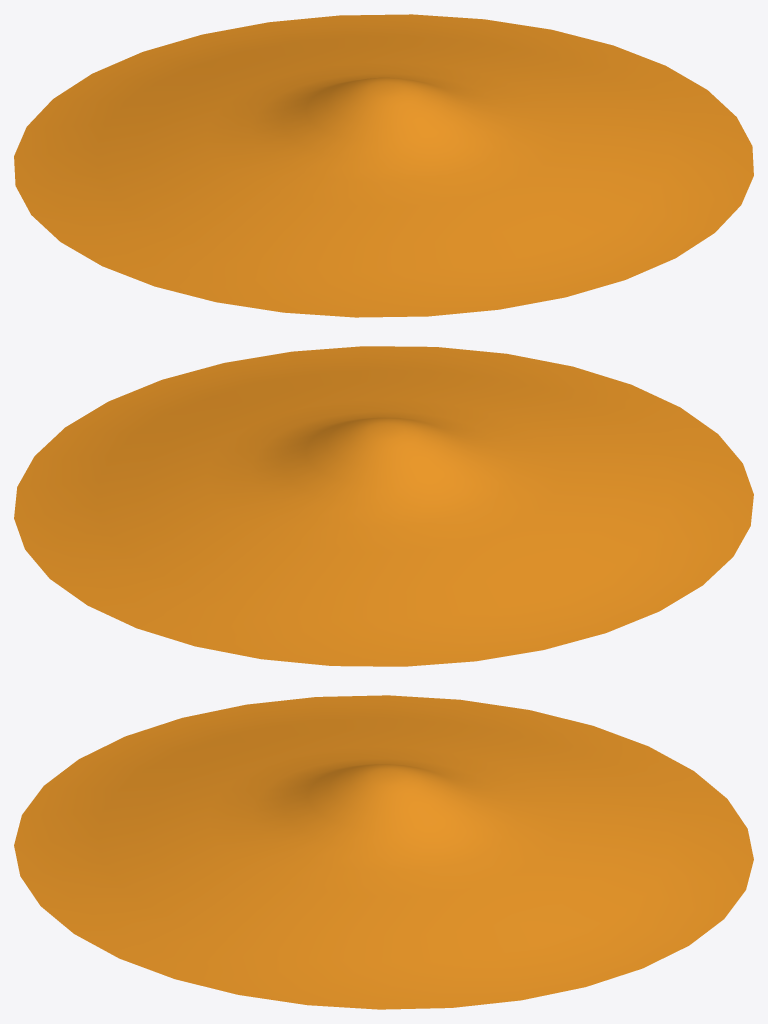
File: ride.fbx
3 renders of one model, top to bottom at view 1: azimuth 30°, elevation 25°; view 2: azimuth 150°, elevation 25°; view 3: azimuth 270°, elevation 25°, orthographic.
Parts seen in each view (by area): view 1: Circle.001; view 2: Circle.001; view 3: Circle.001.
Part boxes in pixels (x1=…): Circle.001: x1=14, y1=14, x2=753, y2=317; Circle.001: x1=14, y1=346, x2=753, y2=666; Circle.001: x1=14, y1=695, x2=753, y2=1009.
Size of the model in its own units: 46.74 by 5.79 by 46.73.
